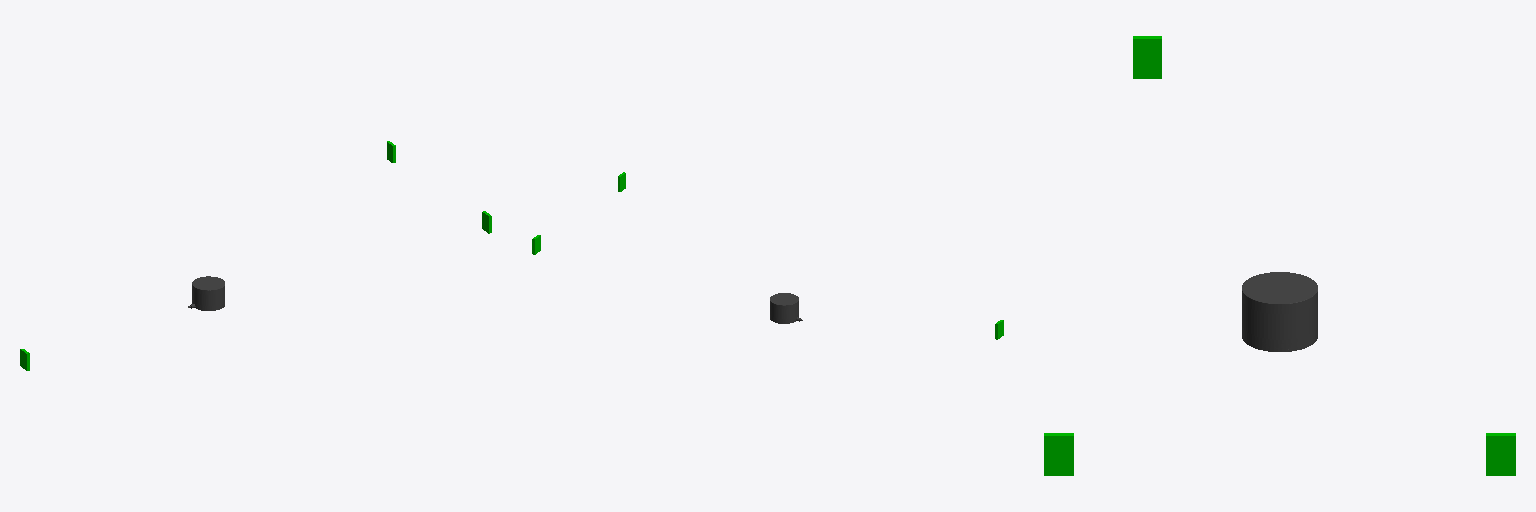
robot.urdf — pui_bot:
<?xml version="1.0" ?>
<robot name="pui_bot"
  xmlns:xacro="http://ros.org/wiki/xacro">

  <!-- Init colour -->
  <material name="black">
      <color rgba="0.0 0.0 0.0 1.0"/>
  </material>

  <material name="dark">
    <color rgba="0.3 0.3 0.3 1.0"/>
  </material>

  <material name="light_black">
    <color rgba="0.4 0.4 0.4 1.0"/>
  </material>

  <material name="blue">
    <color rgba="0.0 0.0 0.8 1.0"/>
  </material>

  <material name="green">
    <color rgba="0.0 0.8 0.0 1.0"/>
  </material>

  <material name="grey">
    <color rgba="0.5 0.5 0.5 1.0"/>
  </material>

  <material name="orange">
    <color rgba="1.0 0.4235 0.0392 1.0"/>
  </material>

  <material name="brown">
    <color rgba="0.8706 0.8118 0.7647 1.0"/>
  </material>

  <material name="red">
    <color rgba="0.8 0.0 0.0 1.0"/>
  </material>

  <material name="white">
    <color rgba="1.0 1.0 1.0 1.0"/>
  </material>

  <link name="base_footprint"/>

  <joint name="base_joint" type="fixed">
    <parent link="base_footprint"/>
    <child link="base_link"/>
    <origin xyz="0.0 0.0 0.010" rpy="0 0 0"/>
  </joint>

  <link name="base_link">
    <visual>
      <origin xyz="-0.032 0 0.0" rpy="0 0 0"/>
      <geometry>
        <mesh filename="package://pui_description/meshes/bases/burger_base.stl" scale="0.001 0.001 0.001"/>
      </geometry>
      <material name="light_black"/>
    </visual>

    <collision>
      <origin xyz="-0.032 0 0.070" rpy="0 0 0"/>
      <geometry>
        <box size="0.140 0.140 0.143"/>
      </geometry>
    </collision>

    <inertial>
      <origin xyz="0 0 0" rpy="0 0 0"/>
      <mass value="8.2573504e-01"/>
      <inertia ixx="2.2124416e-03" ixy="-1.2294101e-05" ixz="3.4938785e-05" iyy="2.1193702e-03" iyz="-5.0120904e-06" izz="2.0064271e-03" />
    </inertial>
  </link>

  <joint name="wheel_left_joint" type="continuous">
    <parent link="base_link"/>
    <child link="wheel_left_link"/>
    <origin xyz="0.0 0.08 0.023" rpy="-1.57 0 0"/>
    <axis xyz="0 0 1"/>
  </joint>

  <link name="wheel_left_link">
    <visual>
      <origin xyz="0 0 0" rpy="1.57 0 0"/>
      <geometry>
        <mesh filename="package://pui_description/meshes/wheels/left_tire.stl" scale="0.001 0.001 0.001"/>
      </geometry>
      <material name="dark"/>
    </visual>

    <collision>
      <origin xyz="0 0 0" rpy="0 0 0"/>
      <geometry>
        <cylinder length="0.018" radius="0.033"/>
      </geometry>
    </collision>

    <inertial>
      <origin xyz="0 0 0" />
      <mass value="2.8498940e-02" />
      <inertia ixx="1.1175580e-05" ixy="-4.2369783e-11" ixz="-5.9381719e-09" iyy="1.1192413e-05" iyz="-1.4400107e-11" izz="2.0712558e-05" />
    </inertial>
  </link>

  <joint name="wheel_right_joint" type="continuous">
    <parent link="base_link"/>
    <child link="wheel_right_link"/>
    <origin xyz="0.0 -0.080 0.023" rpy="-1.57 0 0"/>
    <axis xyz="0 0 1"/>
  </joint>

  <link name="wheel_right_link">
    <visual>
      <origin xyz="0 0 0" rpy="1.57 0 0"/>
      <geometry>
        <mesh filename="package://pui_description/meshes/wheels/right_tire.stl" scale="0.001 0.001 0.001"/>
      </geometry>
      <material name="dark"/>
    </visual>

    <collision>
      <origin xyz="0 0 0" rpy="0 0 0"/>
      <geometry>
        <cylinder length="0.018" radius="0.033"/>
      </geometry>
    </collision>

    <inertial>
      <origin xyz="0 0 0" />
      <mass value="2.8498940e-02" />
      <inertia ixx="1.1175580e-05" ixy="-4.2369783e-11" ixz="-5.9381719e-09" iyy="1.1192413e-05" iyz="-1.4400107e-11" izz="2.0712558e-05" />
    </inertial>
  </link>

  <joint name="caster_back_joint" type="fixed">
    <parent link="base_link"/>
    <child link="caster_back_link"/>
    <origin xyz="-0.081 0 -0.004" rpy="-1.57 0 0"/>
  </joint>

  <link name="caster_back_link">
    <collision>
      <origin xyz="0 0.001 0" rpy="0 0 0"/>
      <geometry>
        <box size="0.030 0.009 0.020"/>
      </geometry>
    </collision>

    <inertial>
      <origin xyz="0 0 0" />
      <mass value="0.005" />
      <inertia ixx="0.001" ixy="0.0" ixz="0.0" iyy="0.001" iyz="0.0" izz="0.001" />
    </inertial>
  </link>

  <joint name="imu_joint" type="fixed">
    <parent link="base_link"/>
    <child link="imu_link"/>
    <origin xyz="-0.032 0 0.2136" rpy="0 0 0"/>
  </joint>

  <link name="imu_link">
    <visual>
      <origin rpy="0 0 0" xyz="0 0 0"/>
      <geometry>
        <mesh filename="package://pui_description/meshes/sensors/MTi_1.stl" scale="0.001 0.001 0.001"/>
      </geometry>
      <material name="xsens_orange">
        <color rgba="0.92 0.45 0.02 1.0"/>
      </material>
    </visual>
  </link>

  <joint name="scan_joint" type="fixed">
    <parent link="base_link"/>
    <child link="base_scan"/>
    <origin xyz="-0.032 0 0.172" rpy="0 0 0"/>
  </joint>

  <link name="base_scan">
    <visual>
      <origin xyz="0 0 -0.032" rpy="0 0 -1.57"/>
      <geometry>
        <mesh filename="package://pui_description/meshes/sensors/vlp.stl" scale="0.001 0.001 0.001"/>
      </geometry>
      <material name="dark"/>
    </visual>

    <collision>
      <origin xyz="0.015 0 -0.0065" rpy="0 0 0"/>
      <geometry>
        <cylinder length="0.0315" radius="0.055"/>
      </geometry>
    </collision>

    <inertial>
      <mass value="0.114" />
      <origin xyz="0 0 0" />
      <inertia ixx="0.001" ixy="0.0" ixz="0.0" iyy="0.001" iyz="0.0" izz="0.001" />
    </inertial>
  </link>

  <!-- for uwb -->
  <joint name="anchor_0_joint" type="fixed">
    <parent link="base_link"/>
    <child link="anchor_0_link"/>
    <origin xyz="-0.80 -0.18 0.20" rpy="0 0 0"/>
  </joint>

  <link name="anchor_0_link">
    <visual>
      <origin rpy="0 0 0" xyz="0 0 0"/>
      <geometry>
        <box size="0.01 0.04 0.06"/>
      </geometry>
      <material name="green"/>
    </visual>
  </link>

  <joint name="anchor_1_joint" type="fixed">
    <parent link="base_link"/>
    <child link="anchor_1_link"/>
    <origin xyz="0.8 0.30 0.35" rpy="0 0 0"/>
  </joint>

  <link name="anchor_1_link">
    <visual>
      <origin rpy="0 0 0" xyz="0 0 0"/>
      <geometry>
        <box size="0.01 0.04 0.06"/>
      </geometry>
      <material name="green"/>
    </visual>
  </link>

  <joint name="anchor_2_joint" type="fixed">
    <parent link="base_link"/>
    <child link="anchor_2_link"/>
    <origin xyz="0.8 -0.30 0.35" rpy="0 0 0"/>
  </joint>

  <link name="anchor_2_link">
    <visual>
      <origin rpy="0 0 0" xyz="0 0 0"/>
      <geometry>
        <box size="0.01 0.04 0.06"/>
      </geometry>
      <material name="green"/>
    </visual>
  </link>

</robot>

--- Facts derived from the render (not from the file) ---
Views: 3 orthographic renders of the robot side by side, from view 1: azimuth 30°, elevation 25°; view 2: azimuth 150°, elevation 25°; view 3: azimuth 270°, elevation 25°.
Robot: pui_bot — 10 links, 9 joints (2 continuous, 7 fixed); root link base_footprint; default pose: every joint at zero.
Links seen in each view (by area): view 1: base_scan; view 2: base_scan; view 3: base_scan, anchor_1_link, anchor_2_link, anchor_0_link.
Boxes of the visible links, x1,y1,x2,y2 form: base_scan: (188,276,224,310); base_scan: (770,293,802,323); base_scan: (1242,272,1317,351); anchor_1_link: (1486,433,1515,475); anchor_2_link: (1044,433,1073,475); anchor_0_link: (1133,36,1161,78).
Size in the robot's own frame: 1.61 by 0.64 by 0.24 metres.
1 mesh visuals loaded from 5 distinct referenced files (1 binary STL); not drawn: 4 (reference not matched to a file when rendering).
